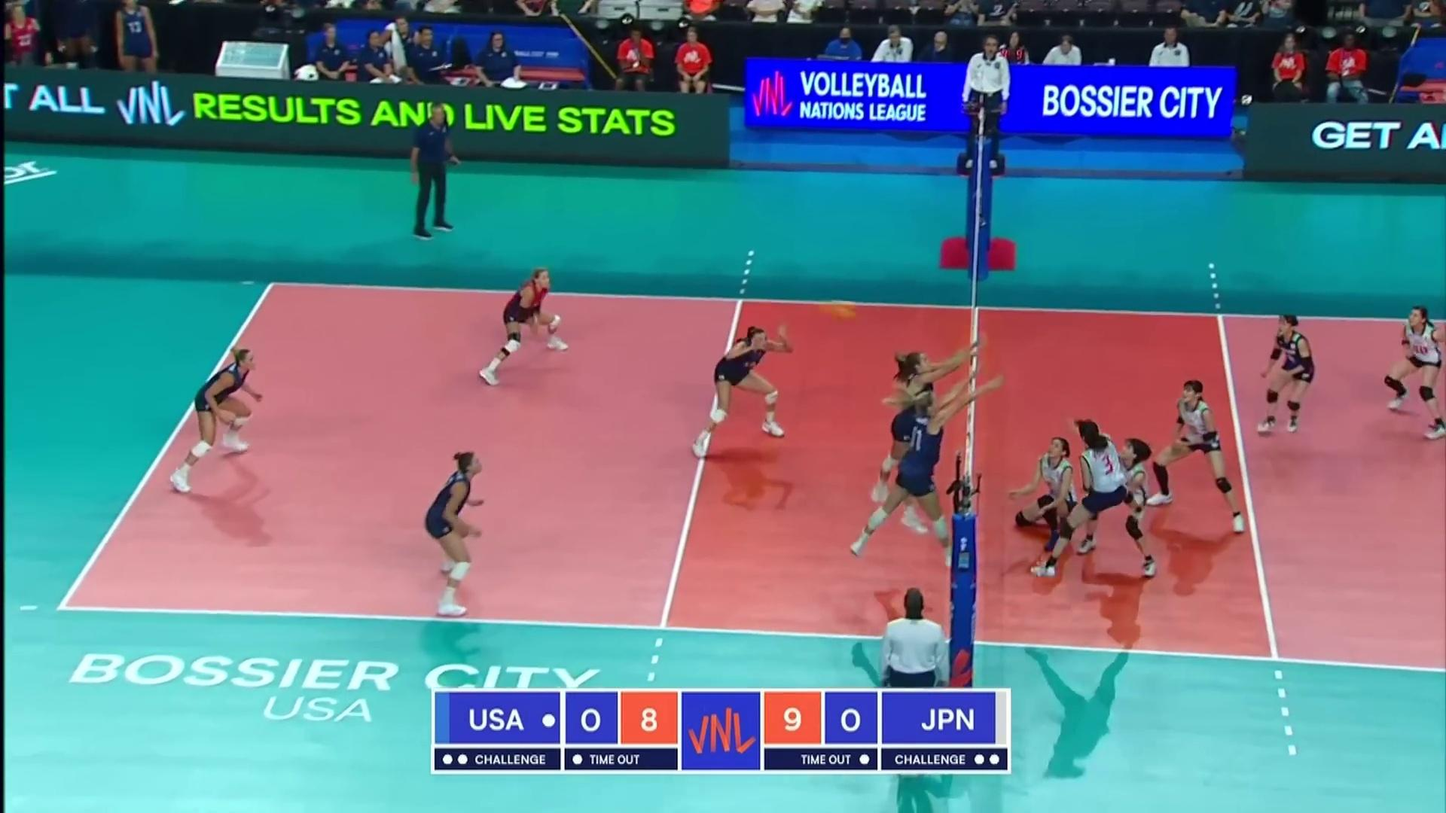player: (858, 387, 953, 560), (880, 342, 953, 534), (1152, 383, 1244, 530), (171, 346, 259, 495), (691, 327, 791, 455), (1047, 422, 1127, 575), (425, 452, 492, 618), (1080, 437, 1158, 576), (479, 266, 566, 384), (1386, 307, 1446, 435), (1014, 439, 1081, 548), (1259, 317, 1319, 436)
refree: (877, 587, 952, 765), (960, 32, 1010, 171)
